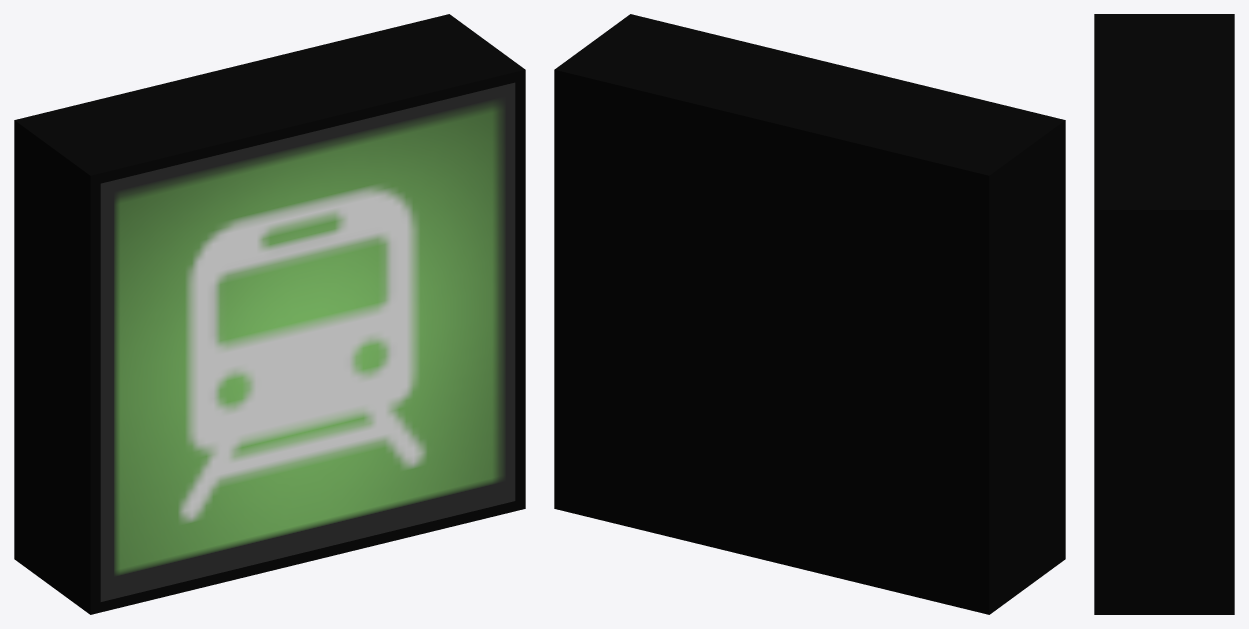
File: Train.fbx
The picture shows the model from 3 angles, left to right: view 1: azimuth 30°, elevation 25°; view 2: azimuth 150°, elevation 25°; view 3: azimuth 270°, elevation 25°; orthographic projection. The views are drawn at different scales.
Visible parts, largest first — view 1: Cube; view 2: Cube; view 3: Cube.
Boxes of the visible parts, x1,y1,x2,y2 form: Cube: (14, 14, 525, 614); Cube: (554, 14, 1065, 614); Cube: (1094, 14, 1234, 614).
Size of the model in its own units: 215 by 208 by 65.2.
